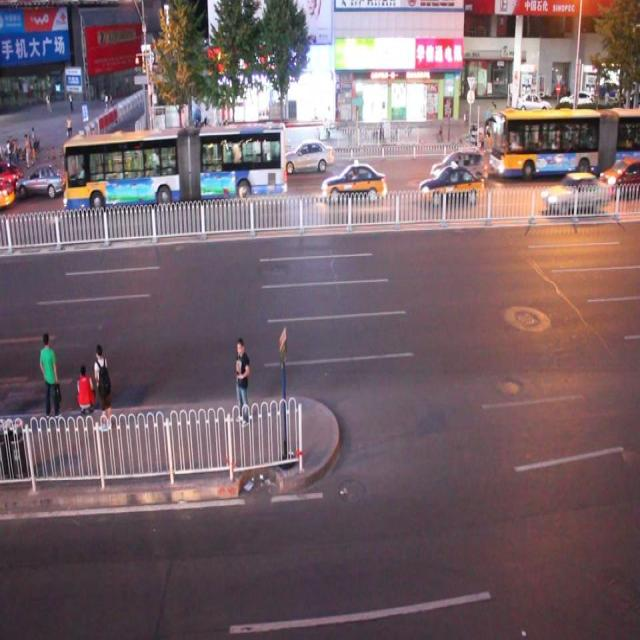car: (417, 164, 482, 207), (320, 162, 386, 204), (541, 168, 602, 210), (434, 148, 486, 184), (189, 138, 231, 181), (283, 138, 334, 173), (601, 154, 640, 198), (17, 161, 66, 196), (1, 156, 22, 190)
van: (64, 123, 284, 210), (487, 107, 640, 181)
